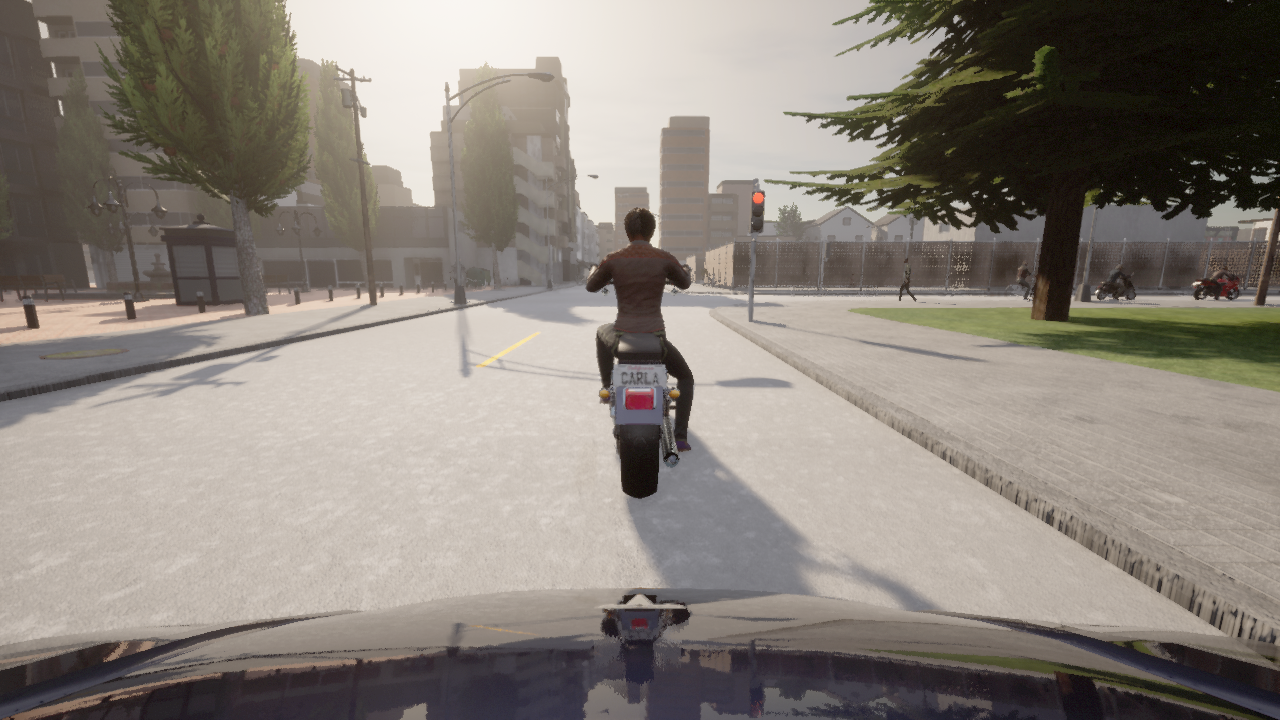cyclist: (0, 588, 1279, 719), (588, 264, 691, 497), (1192, 274, 1244, 299), (1094, 273, 1136, 299), (1005, 278, 1035, 300), (744, 268, 761, 273), (864, 268, 866, 269)
pedestrian: (895, 256, 917, 301), (448, 259, 467, 285), (846, 273, 855, 291), (699, 265, 706, 285)
